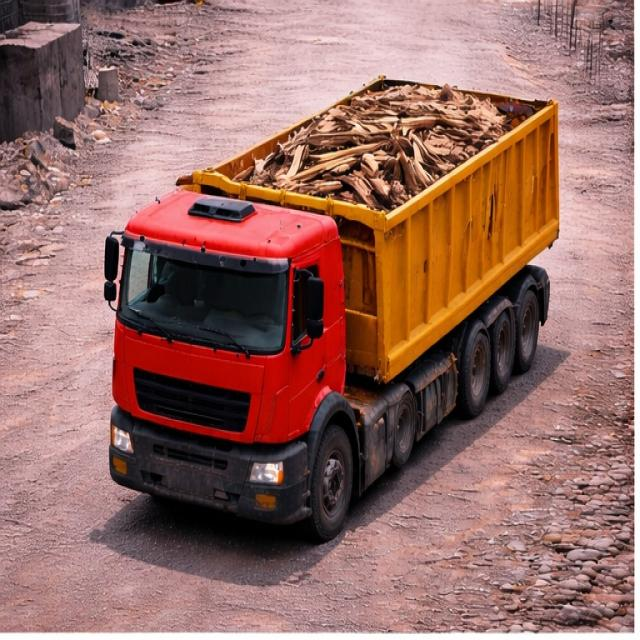Box: (191, 70, 558, 226)
Truck: (101, 32, 564, 499)
